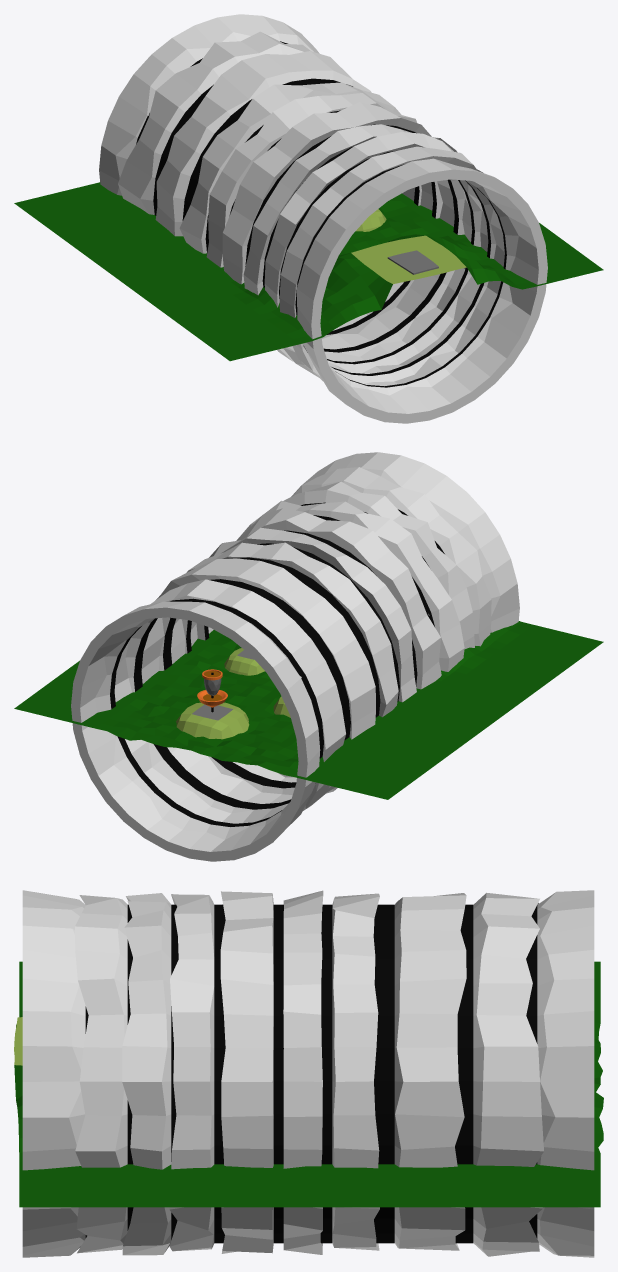
The model's file is DrivingRange.fbx.
3 renders of one model, top to bottom at view 1: azimuth 30°, elevation 25°; view 2: azimuth 150°, elevation 25°; view 3: azimuth 270°, elevation 25°, orthographic. The views are drawn at different scales.
Parts seen in each view (by area): view 1: Cylinder.003, FairWay; view 2: Cylinder.003, FairWay, GoalMound.002, GoalMound; view 3: Cylinder.003, FairWay.
Boxes of the visible parts, x1,y1,x2,y2 form: Cylinder.003: [99, 14, 547, 423]; FairWay: [14, 182, 603, 361]; Cylinder.003: [71, 452, 519, 861]; FairWay: [14, 621, 603, 799]; GoalMound.002: [176, 702, 249, 739]; GoalMound: [224, 648, 264, 675]; Cylinder.003: [22, 890, 594, 1257]; FairWay: [14, 961, 603, 1207].
Bounding box in the file's own units: 26894 × 17018 × 27286.
